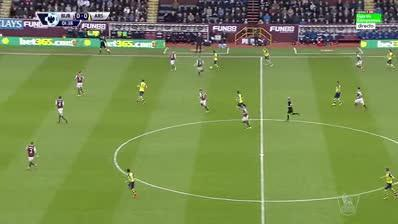futbol: (208, 65, 214, 70)
player: (377, 165, 397, 203), (23, 140, 39, 173), (123, 167, 138, 201), (54, 95, 70, 126), (330, 79, 344, 108), (135, 78, 149, 106), (239, 104, 253, 132), (73, 70, 86, 99), (197, 88, 211, 114), (353, 85, 368, 109), (261, 45, 274, 69), (384, 47, 396, 73), (193, 56, 206, 78), (168, 49, 179, 74), (353, 52, 366, 73), (233, 90, 244, 112), (211, 48, 221, 71)
referree: (283, 95, 301, 125)
